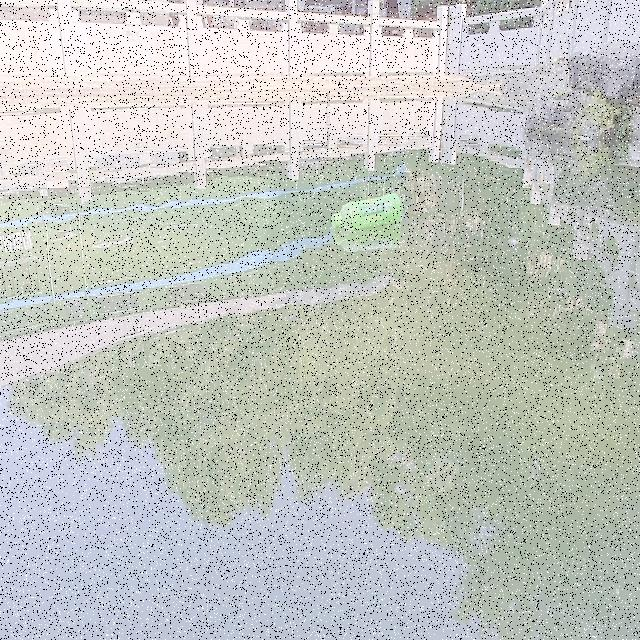bottle: (326, 188, 404, 232)
